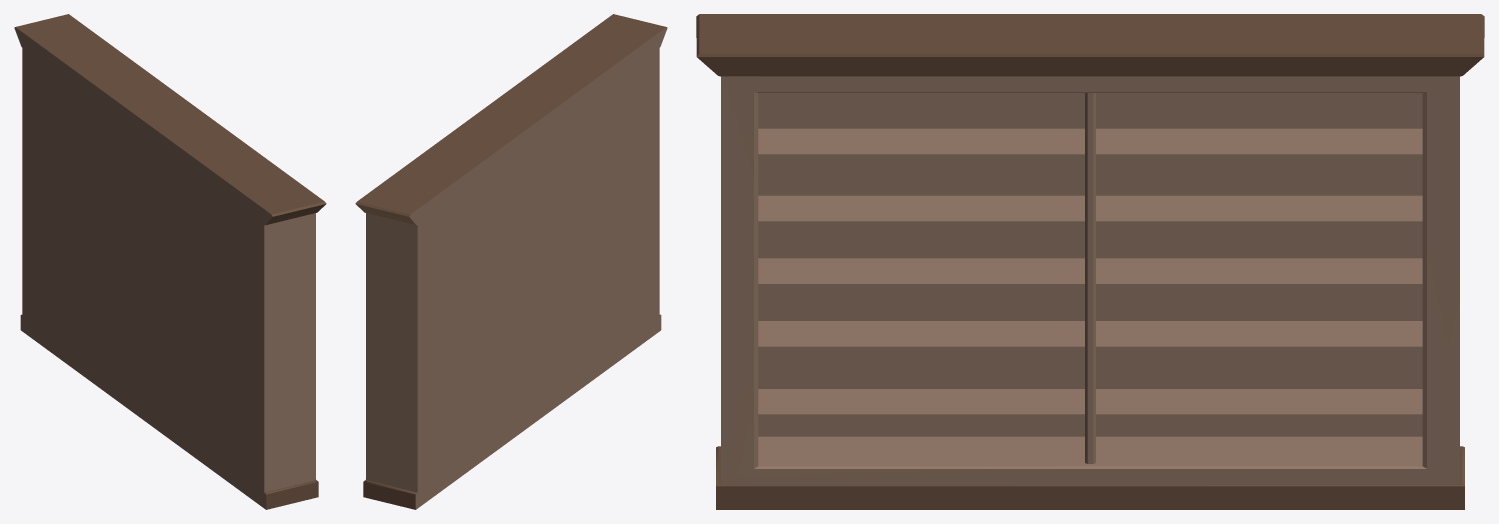
Rendered from BookShelf.fbx.
3 views of the same model, side by side, from view 1: azimuth 30°, elevation 25°; view 2: azimuth 150°, elevation 25°; view 3: azimuth 270°, elevation 25° (orthographic). The views are drawn at different scales.
Parts seen in each view (by area): view 1: Bookcase_big; view 2: Bookcase_big; view 3: Bookcase_big.
Boxes of the visible parts, x1,y1,x2,y2 form: Bookcase_big: (14, 14, 326, 509); Bookcase_big: (355, 14, 667, 509); Bookcase_big: (696, 14, 1484, 509).
Bounding box in the file's own units: 94.57 × 499 × 781.
